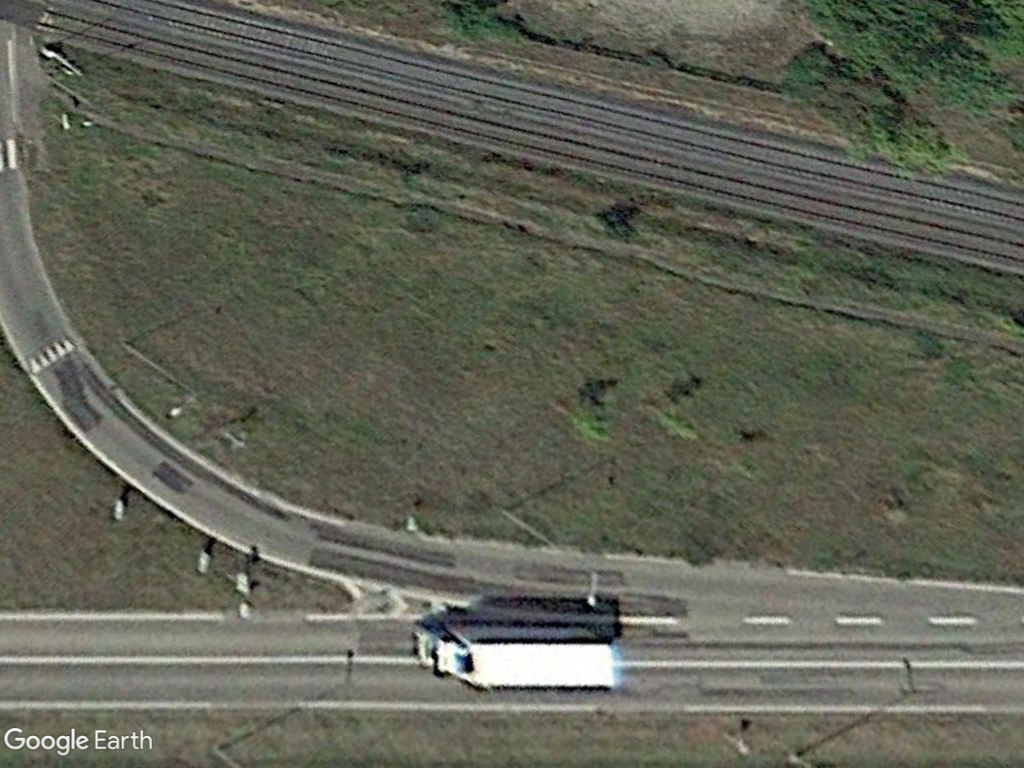truck: (411, 617, 622, 693)
